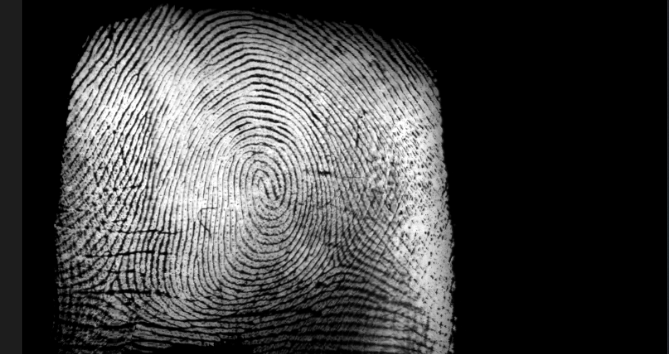nucelo: (248, 167, 278, 209)
verticilo: (318, 246, 357, 280), (93, 270, 134, 302)
